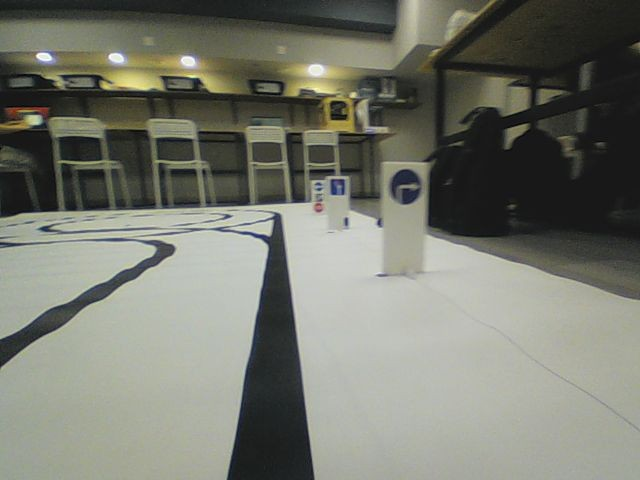Right: (388, 167, 422, 206)
priority_movement: (330, 178, 346, 197)
